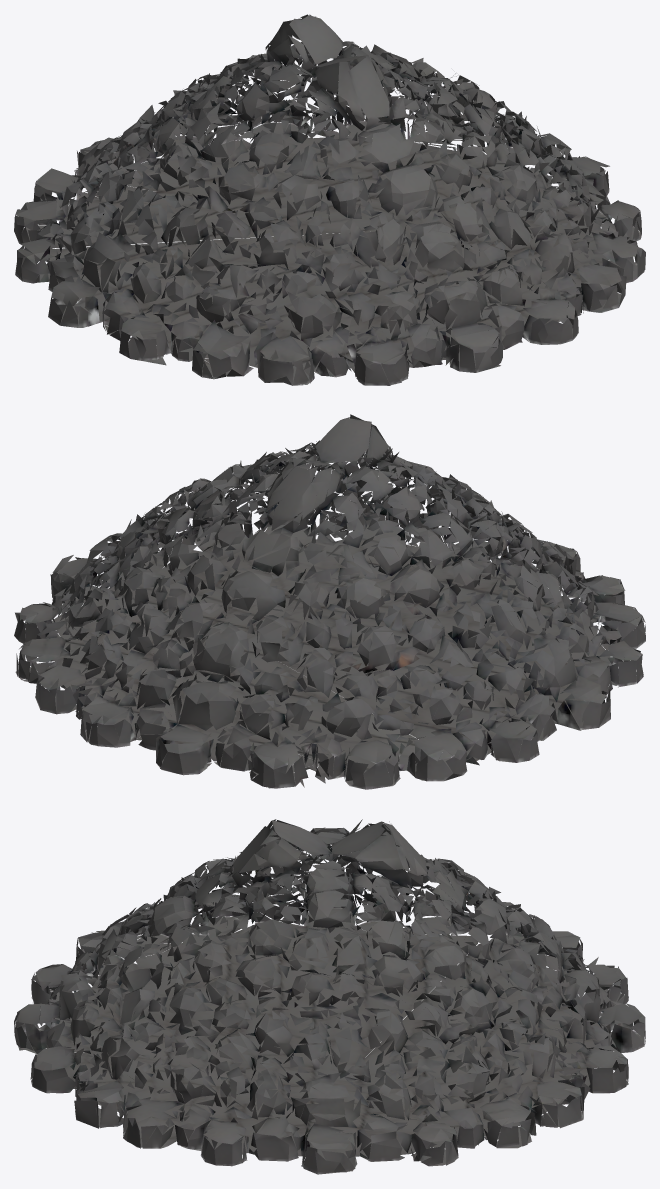
Rendered from Forge_Rubble.glb.
The picture shows the model from 3 angles, top to bottom: view 1: azimuth 30°, elevation 25°; view 2: azimuth 150°, elevation 25°; view 3: azimuth 270°, elevation 25°; orthographic projection.
Visible parts, largest first — view 1: Forge_Rubble; view 2: Forge_Rubble; view 3: Forge_Rubble.
Part boxes in pixels (x1=…): Forge_Rubble: x1=14, y1=14, x2=645, y2=385; Forge_Rubble: x1=14, y1=414, x2=645, y2=789; Forge_Rubble: x1=14, y1=819, x2=645, y2=1174.
Bounding box in the file's own units: 1.85 × 0.7334 × 1.86.
Materials: 1 (1 with a texture image).
